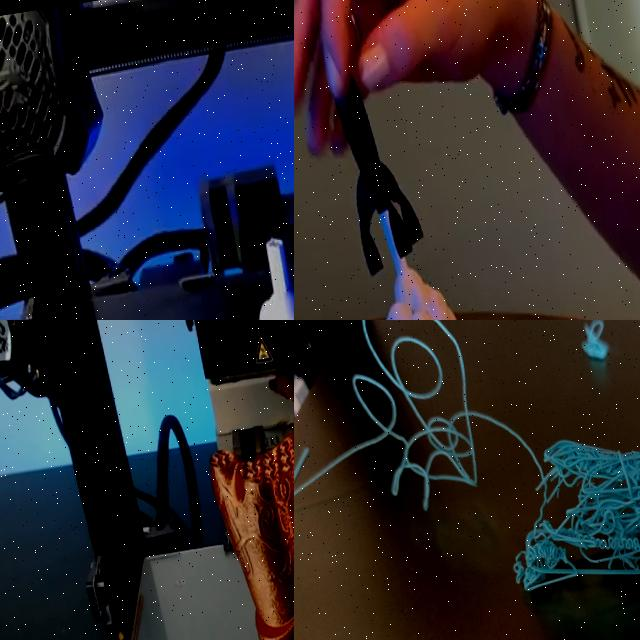spaghetti: (294, 320, 506, 562), (499, 386, 640, 640), (565, 320, 623, 375)
